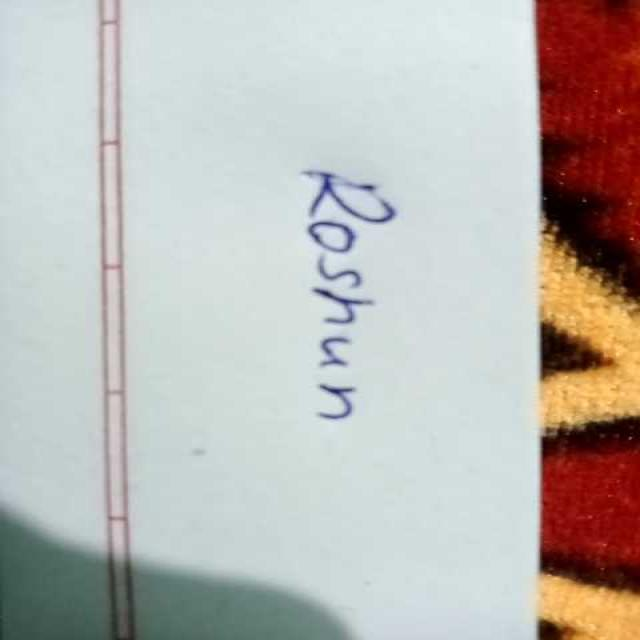signature: (272, 146, 407, 438)
